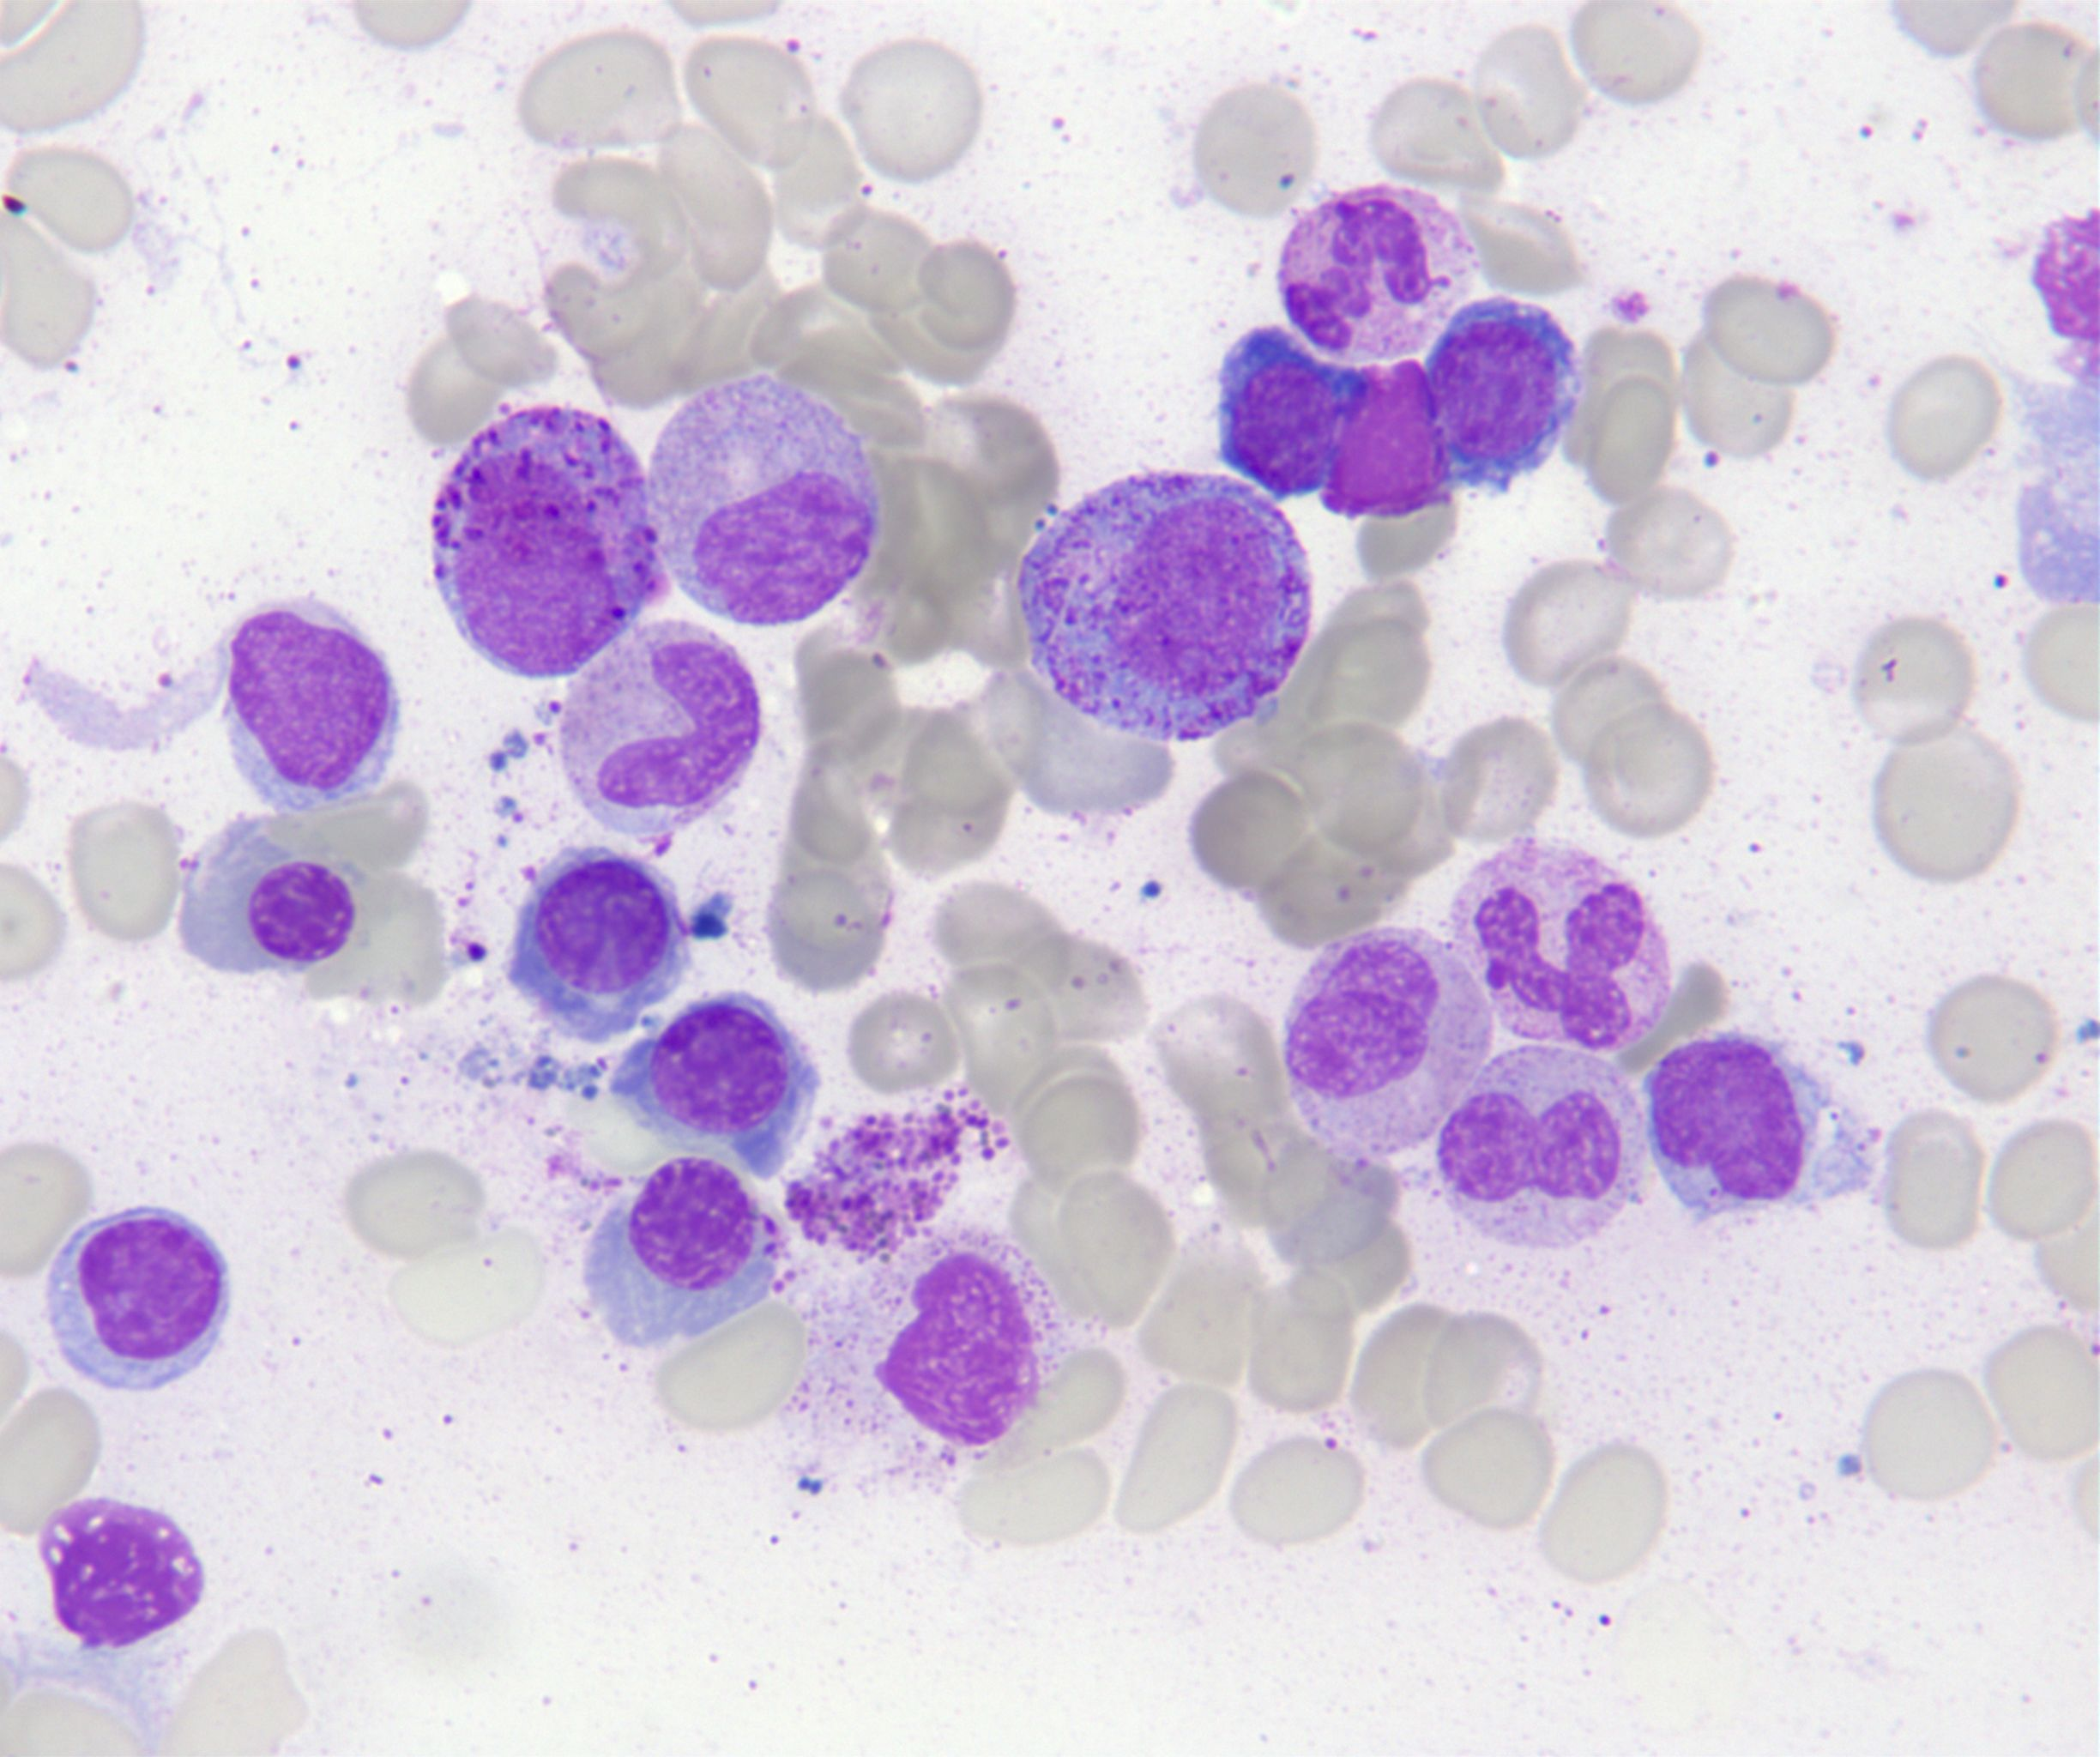23: (612, 991, 820, 1183), (506, 844, 687, 1045), (1427, 298, 1577, 492), (1219, 326, 1366, 501)
24: (581, 1155, 776, 1345), (180, 820, 352, 975)
3: (1020, 473, 1310, 742), (647, 372, 877, 628)
32: (1645, 1031, 1873, 1218), (49, 1206, 228, 1392)
4: (1439, 1042, 1648, 1251)
42: (220, 602, 398, 817)
5: (560, 619, 762, 834)
6: (1284, 928, 1493, 1166), (1453, 837, 1671, 1054), (1278, 185, 1477, 366)
B1: (434, 408, 656, 679)
x: (794, 1225, 1074, 1497), (788, 1087, 1008, 1263), (42, 1497, 204, 1654), (1320, 359, 1449, 520)
